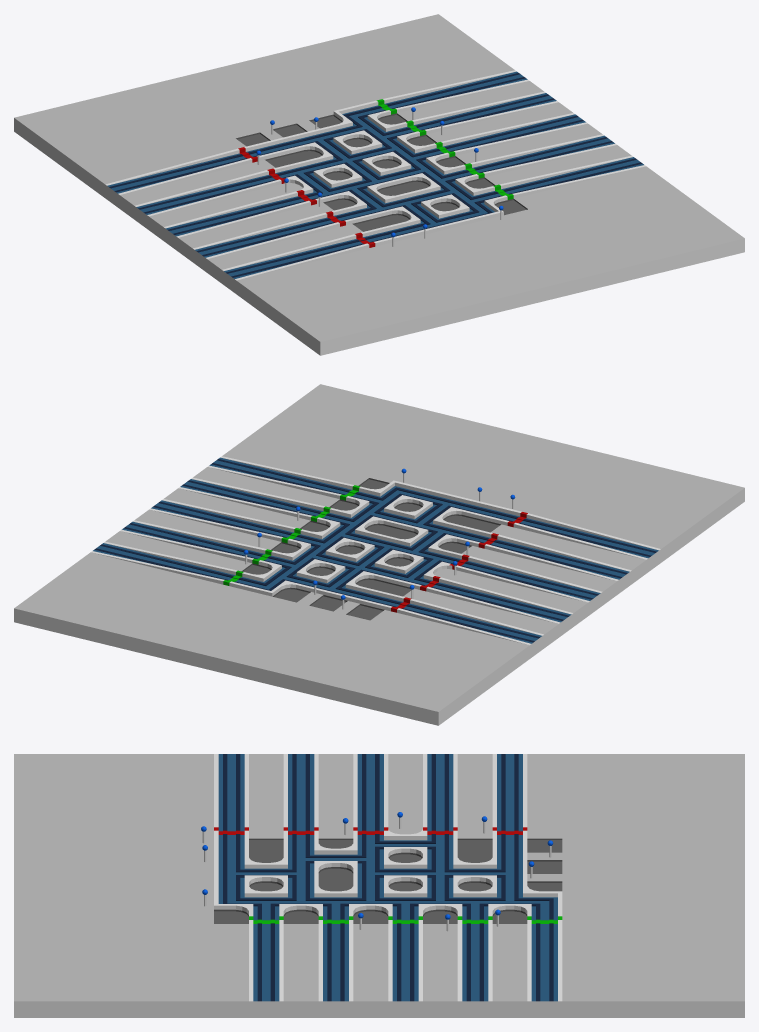
Rendered from Stage10.fbx.
3 views of the same model, one above another, from view 1: azimuth 30°, elevation 25°; view 2: azimuth 150°, elevation 25°; view 3: azimuth 270°, elevation 25° (orthographic). The views are drawn at different scales.
Visible parts, largest first — view 1: Cube.001; view 2: Cube.001; view 3: Cube.001.
Boxes of the visible parts, x1=… form: Cube.001: x1=14, y1=14, x2=744, y2=355; Cube.001: x1=14, y1=384, x2=744, y2=725; Cube.001: x1=14, y1=754, x2=744, y2=1017.
Bounding box in the file's own units: 6400 × 399 × 8000.
